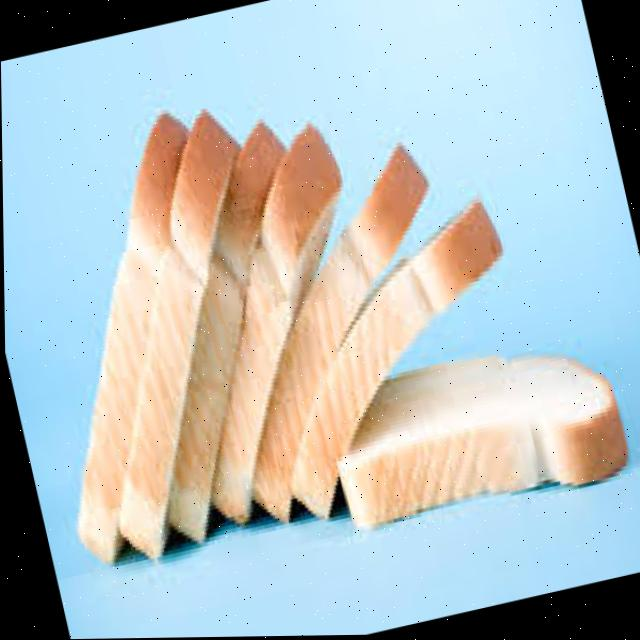Bread: (119, 115, 238, 556), (211, 128, 340, 517), (76, 114, 187, 559), (336, 358, 626, 527)
